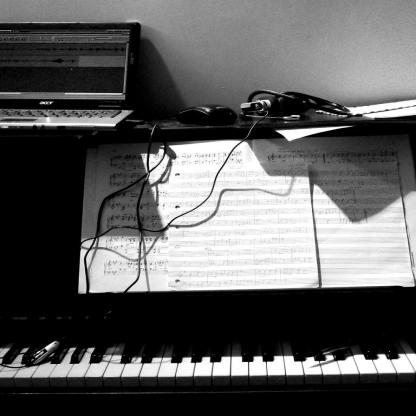board: (0, 22, 141, 131)
